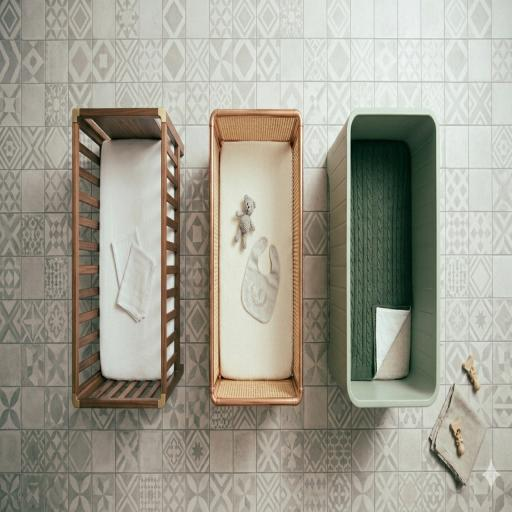crib: (327, 109, 440, 407), (210, 110, 303, 405), (99, 139, 160, 380)
